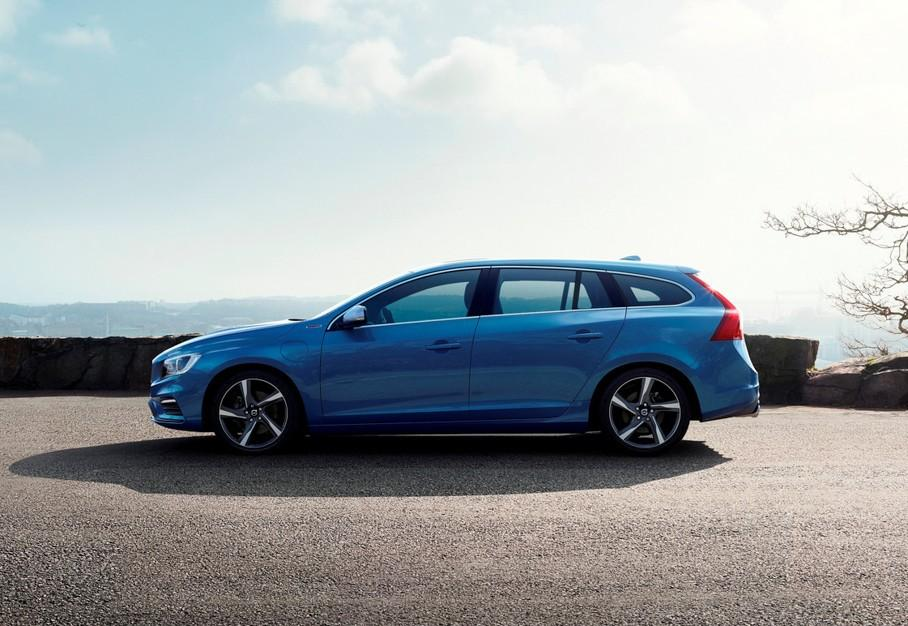Wagon: (149, 259, 760, 460)
